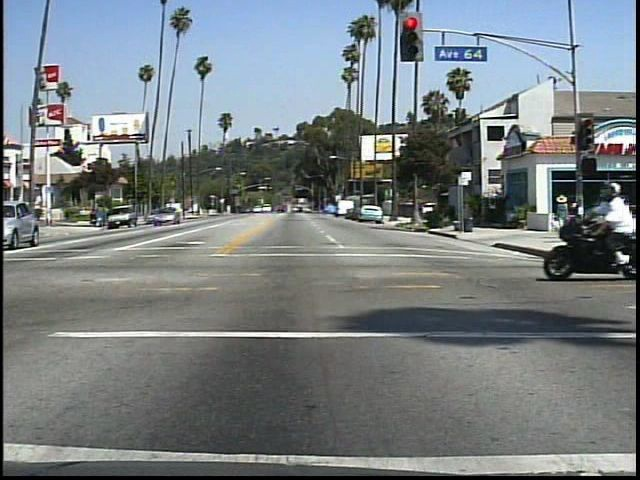person: (551, 190, 575, 236)
